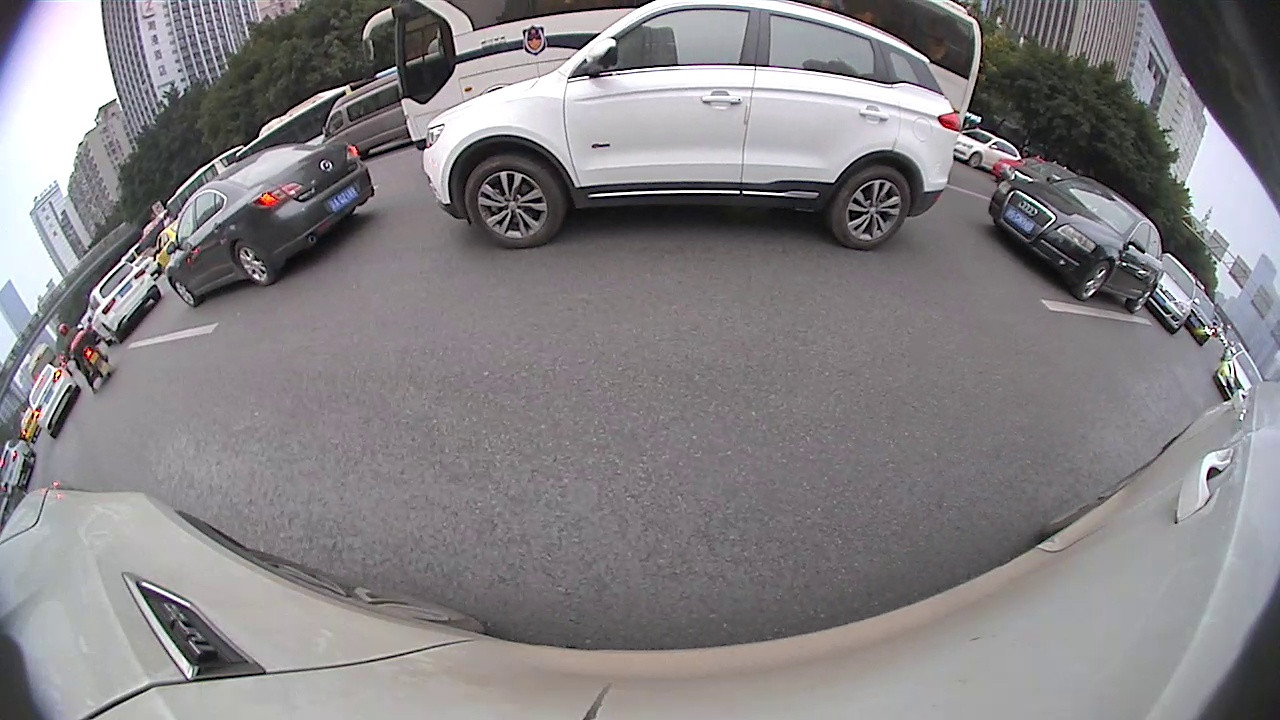bus: (362, 1, 981, 150), (232, 75, 365, 160), (167, 146, 244, 219)
car: (423, 5, 957, 253), (164, 139, 375, 313), (985, 175, 1167, 315), (323, 68, 408, 157), (85, 260, 162, 346), (1151, 248, 1198, 343), (25, 362, 79, 436), (1215, 343, 1260, 421), (954, 128, 1024, 172), (0, 440, 35, 492), (1187, 284, 1215, 349), (991, 152, 1046, 179)
front: (464, 158, 565, 248), (1076, 265, 1113, 300), (171, 281, 196, 304), (968, 151, 982, 166)
rear: (826, 163, 908, 248), (235, 243, 272, 284), (1127, 286, 1154, 310)
rider: (56, 319, 114, 391)
